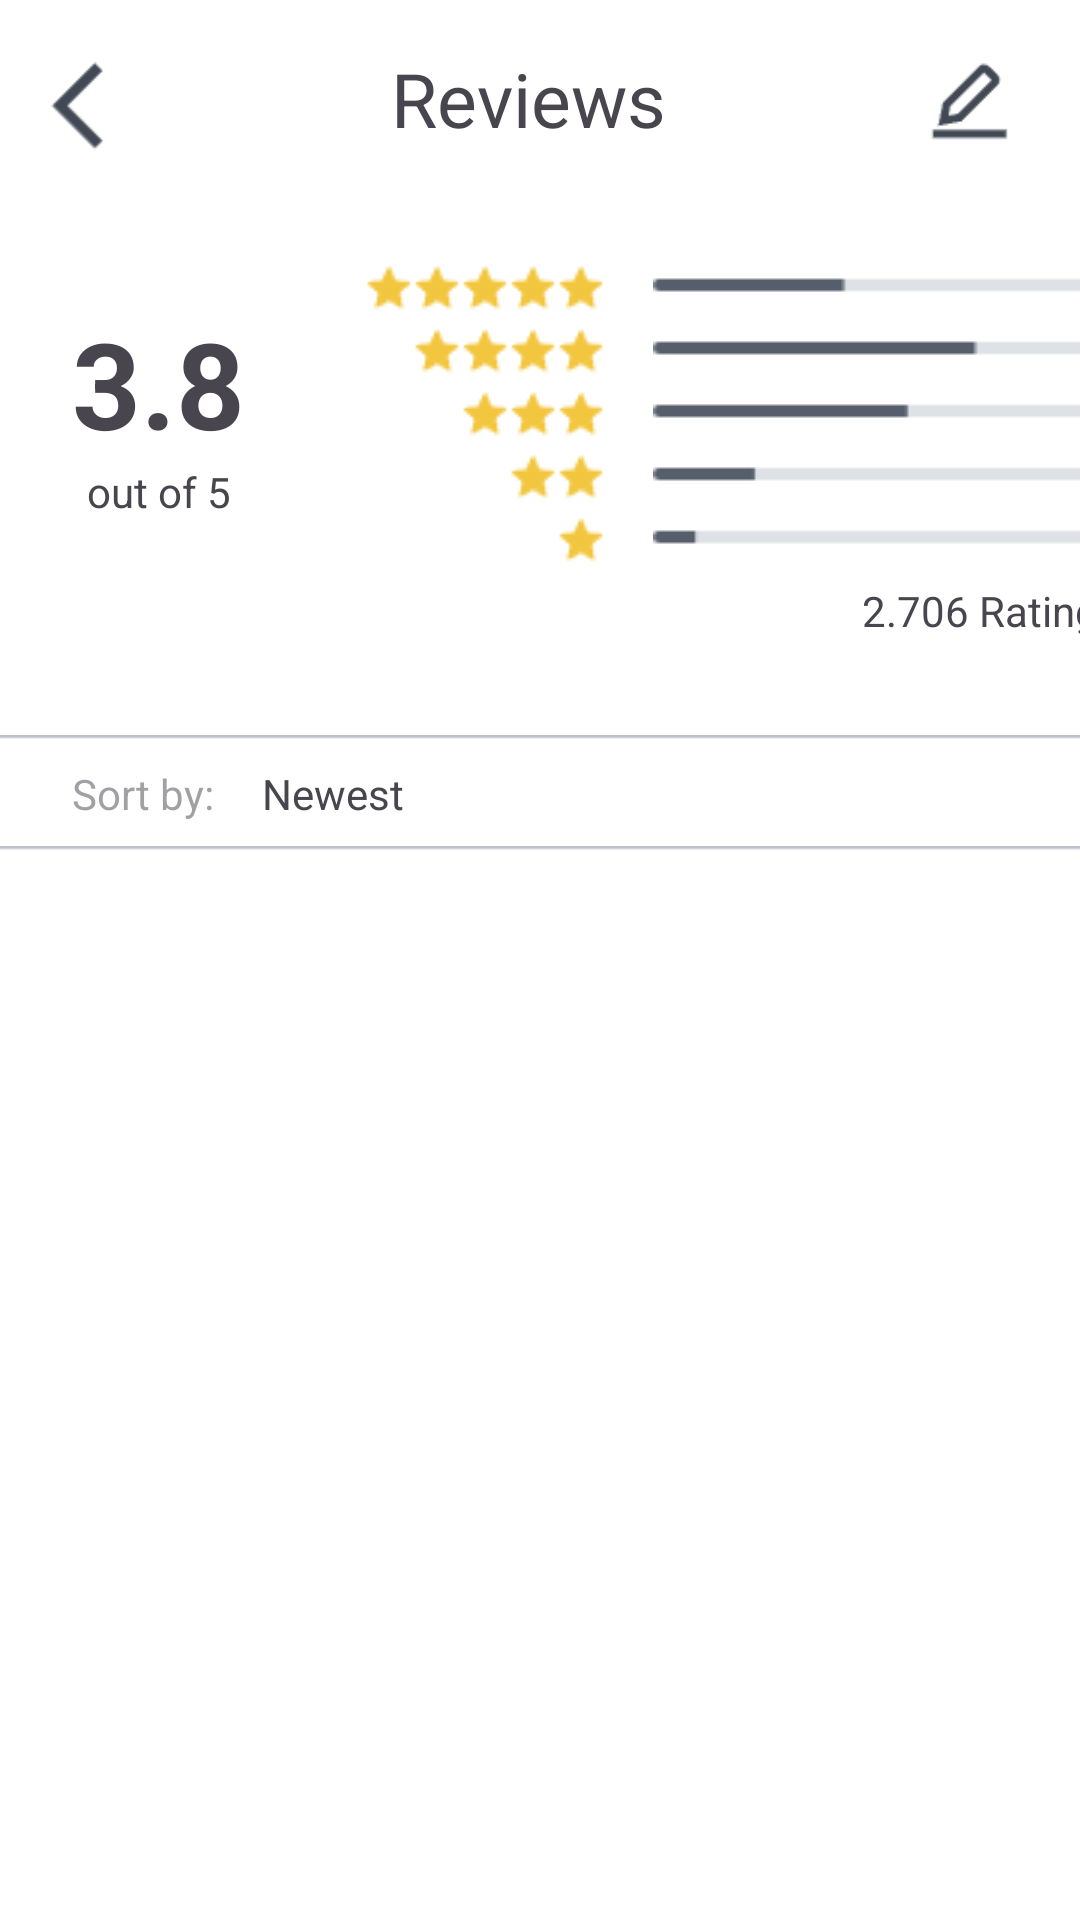

Icons on this 1080 × 1920 Android screen, each with its box as (x1, y1, x2, y2):
back: (51, 62, 103, 149)
fivestars: (367, 266, 603, 309)
fourstars: (415, 329, 603, 372)
onestar: (559, 518, 603, 561)
review: (932, 63, 1007, 139)
threestars: (463, 392, 603, 435)
twostars: (511, 455, 603, 498)
